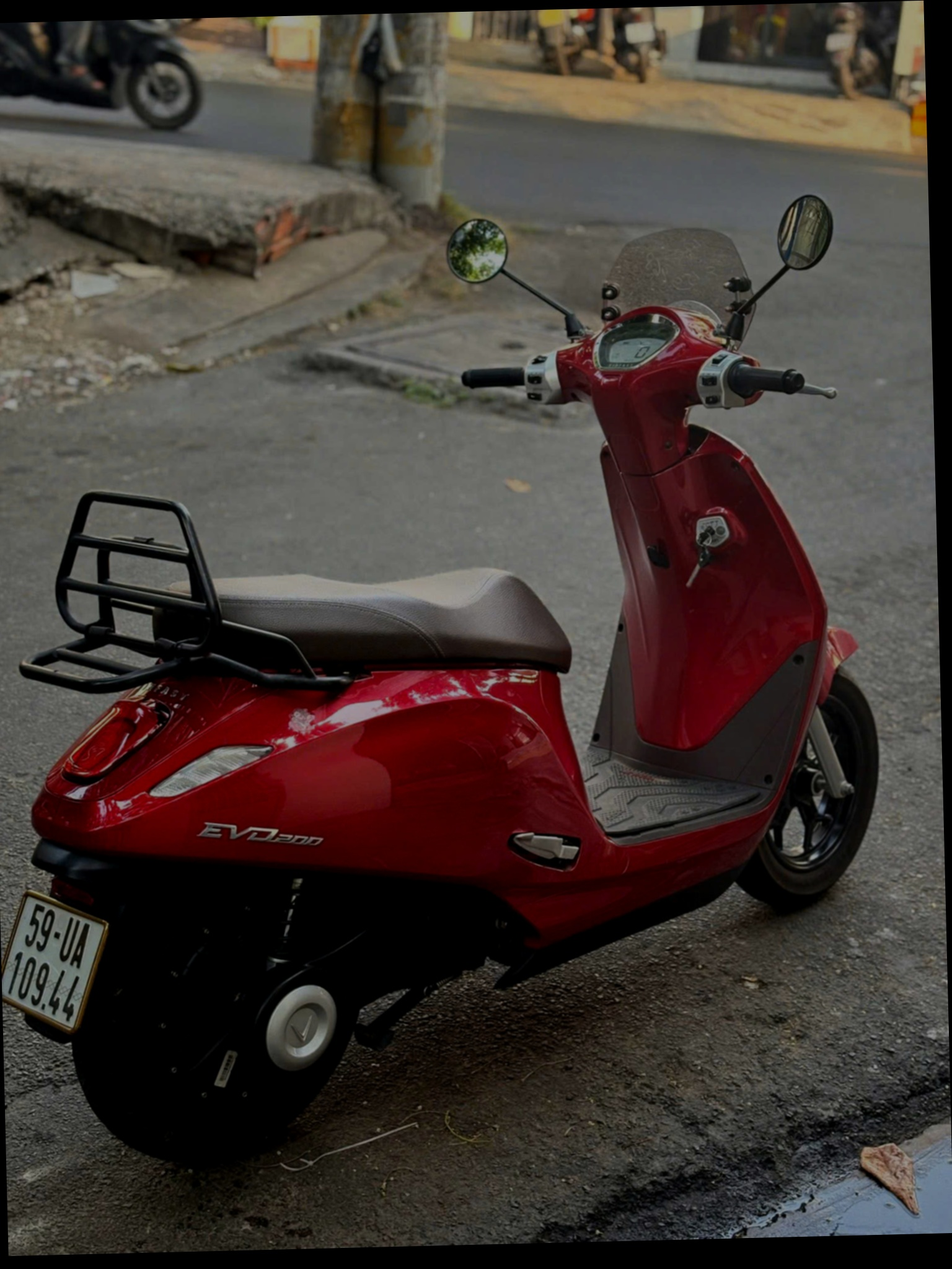Bien-so: (0, 888, 114, 1043)
